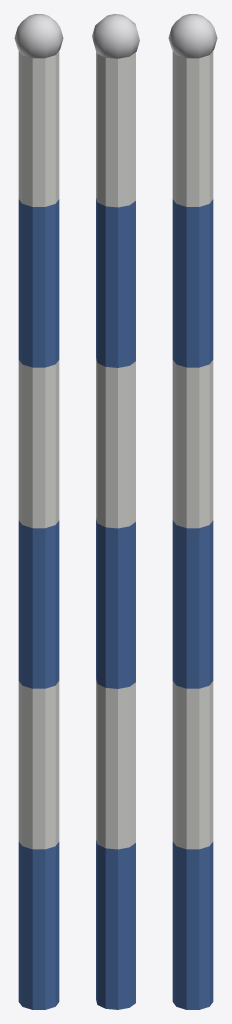
File: Pole.glb
The picture shows the model from 3 angles, left to right: view 1: azimuth 90°, elevation 25°; view 2: azimuth 150°, elevation 25°; view 3: azimuth 270°, elevation 25°; orthographic projection.
Visible parts, largest first — view 1: Pole; view 2: Pole; view 3: Pole.
Part boxes in pixels (x1,y1,x2,y2): Pole: (14,14,63,1009); Pole: (92,14,139,1009); Pole: (168,14,217,1009).
Size of the model in its own units: 0.1712 by 3.99 by 0.18.
